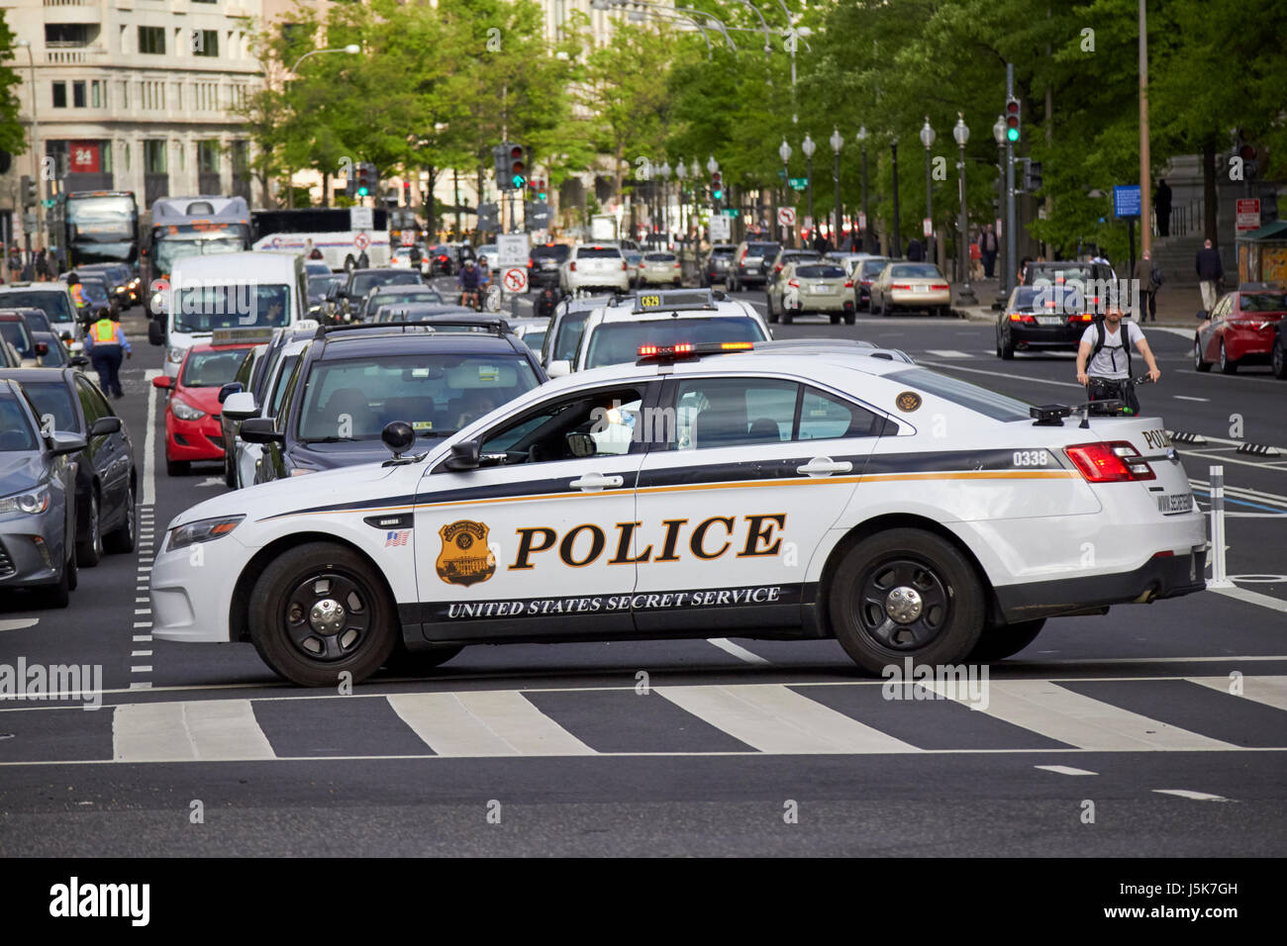Car: (128, 334, 1232, 672), (261, 319, 561, 490), (1, 373, 94, 591), (993, 280, 1095, 359), (869, 257, 962, 315), (771, 256, 860, 316)
Crosswalk: (48, 658, 1287, 807)
Person: (1057, 302, 1171, 413)
